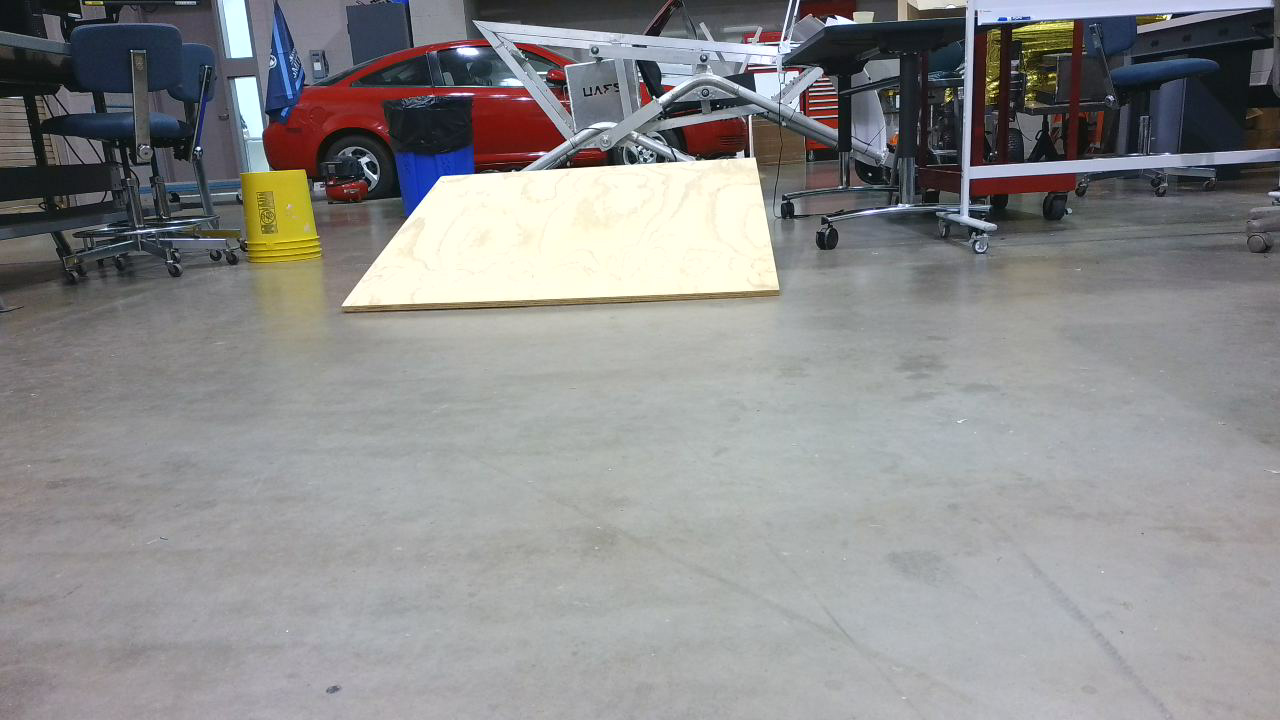concrete_block: (344, 160, 791, 316)
yellow_bucket: (242, 167, 328, 264)
